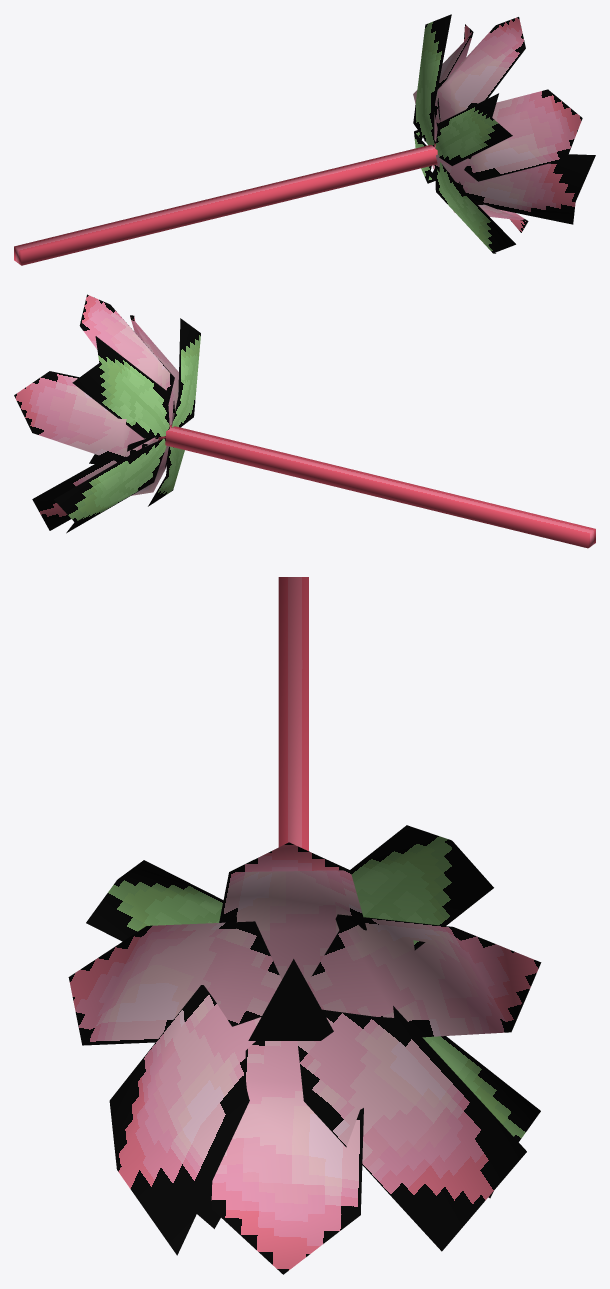
The picture shows the model from 3 angles, top to bottom: view 1: azimuth 30°, elevation 25°; view 2: azimuth 150°, elevation 25°; view 3: azimuth 270°, elevation 25°; orthographic projection. The views are drawn at different scales.
Parts seen in each view (by area): view 1: 1323sbim03_06_c; view 2: 1323sbim03_06_c; view 3: 1323sbim03_06_c.
Boxes of the visible parts, <box> form: 1323sbim03_06_c: <box>14,14,595,265</box>; 1323sbim03_06_c: <box>14,294,595,548</box>; 1323sbim03_06_c: <box>68,577,541,1274</box>.
Bounding box in the file's own units: 1.96 × 0.759 × 0.7532.
1 material, 1 textured.
